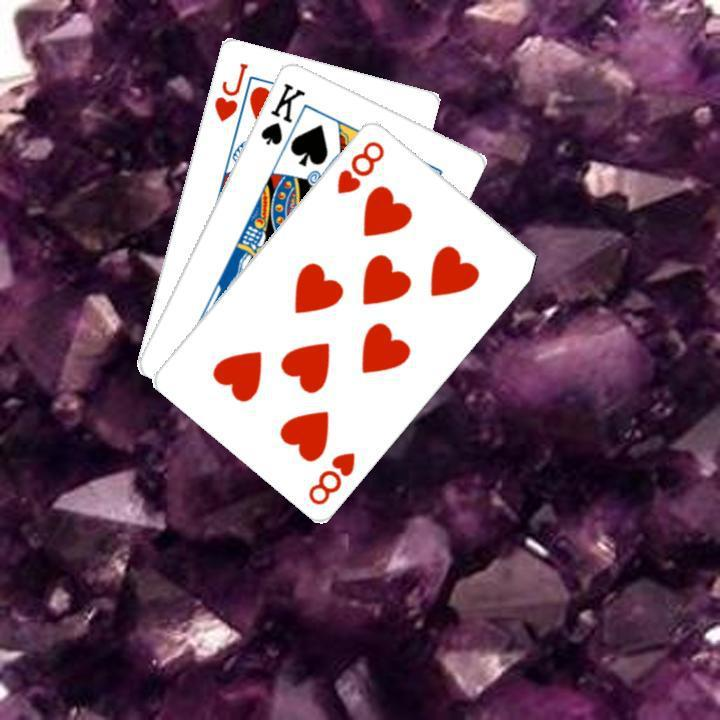8: (332, 135, 387, 195), (303, 447, 358, 507)
J: (209, 58, 250, 123)
K: (255, 78, 307, 147)
